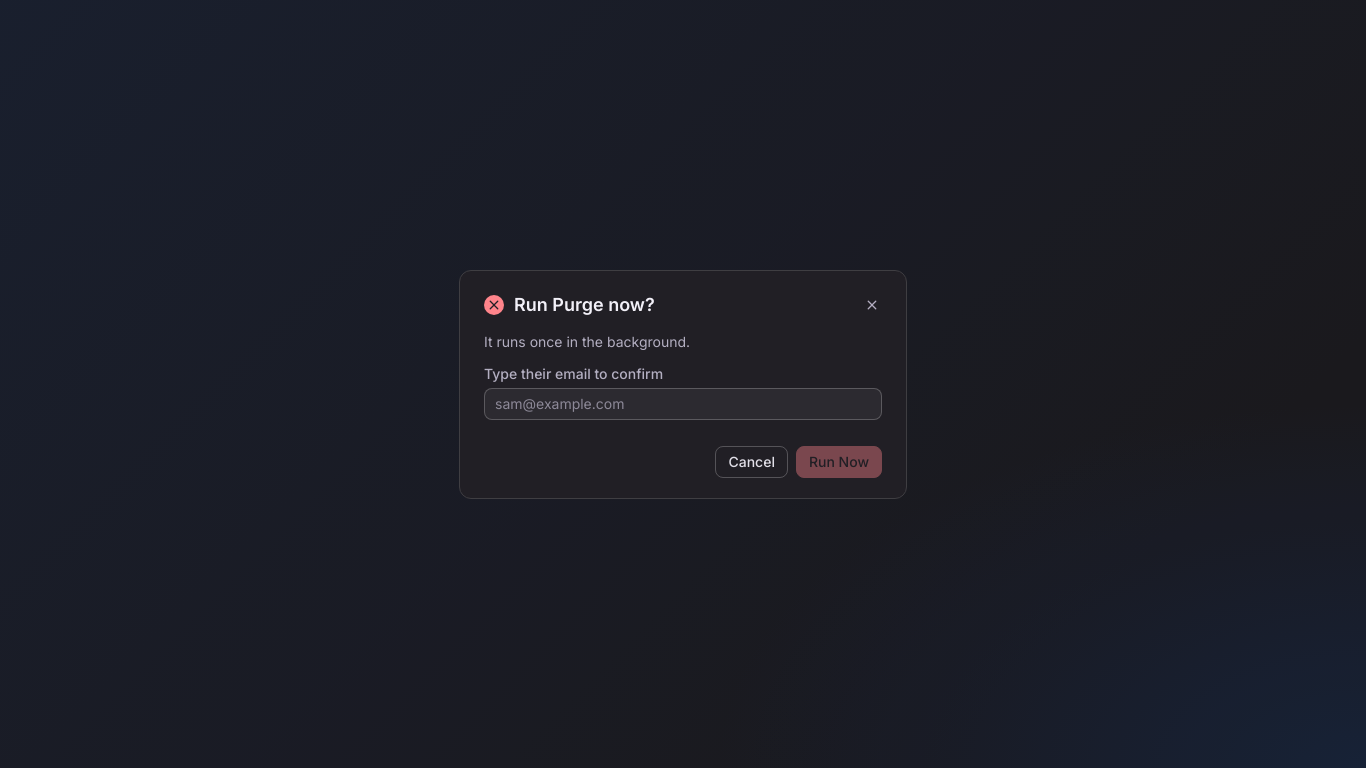
it: ConfirmDialog › keeps a danger confirm disabled until the confirm text is typed, ignoring case
Expected: the button with test id "dialog-confirm" is disabled, [796,446,882,478]
Step 1. Type " SAM@example.com " into the field named "confirm-text" → {"x": 683, "y": 404}, box [495,388,871,418]
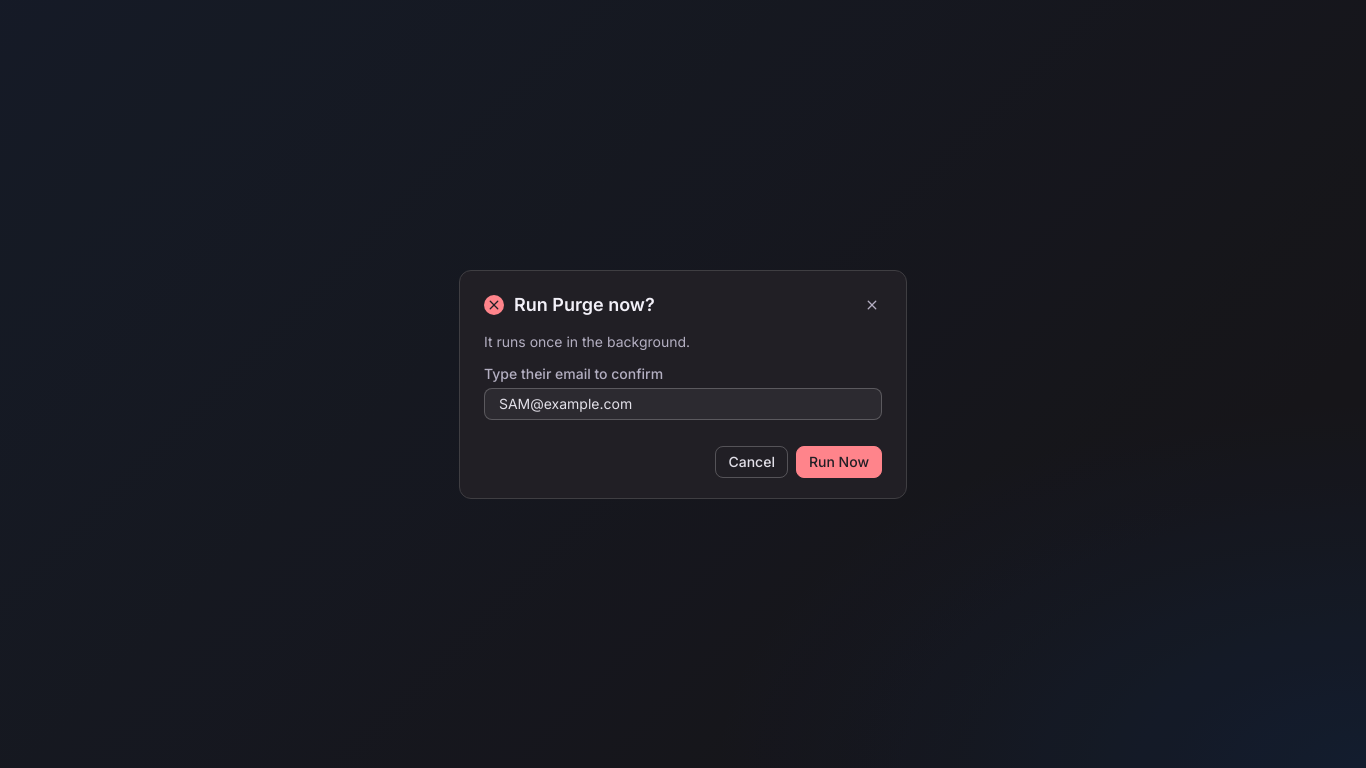
Expected: the button with test id "dialog-confirm" is enabled, [796,446,882,478]
